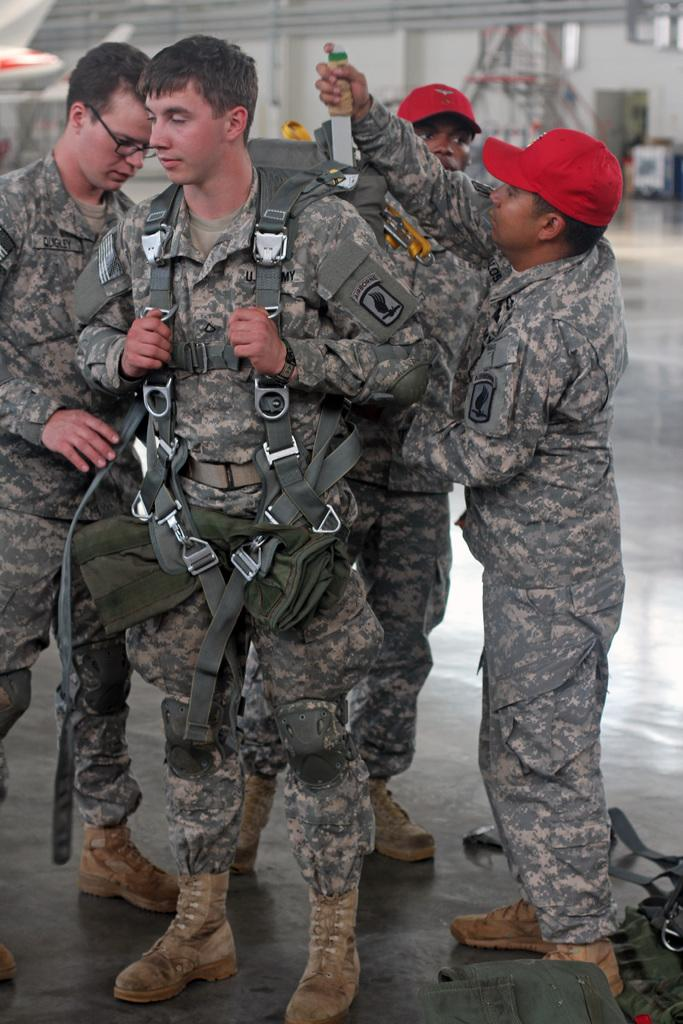Hat: (478, 127, 617, 227), (394, 82, 478, 134)
